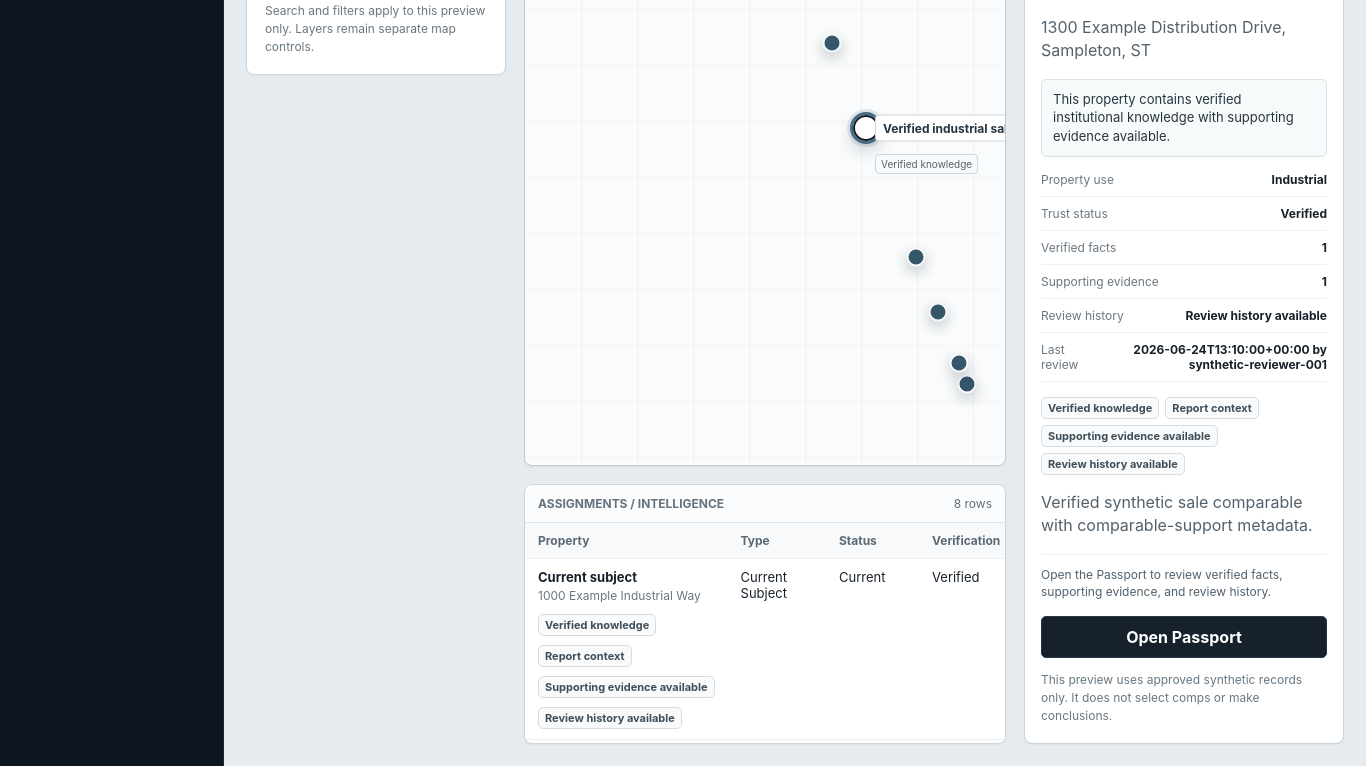
it: IntelligenceWorkspacePreview › renders Passport information architecture sections with property context
(page scrolled)
Click the button named "Select Current subject": click(967, 384) [957, 374, 976, 394]
(page scrolled)
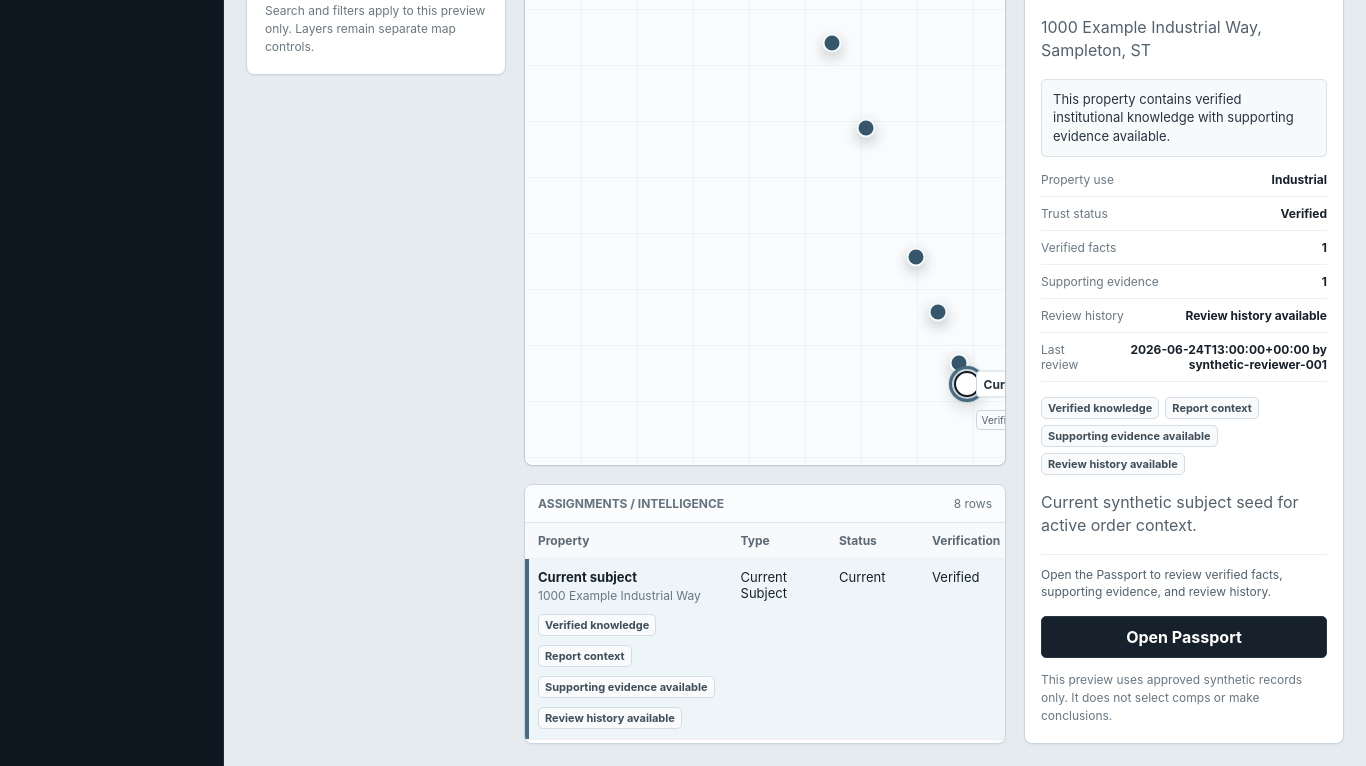
Click the button "Open Passport": click(1184, 637) [1041, 616, 1327, 658]
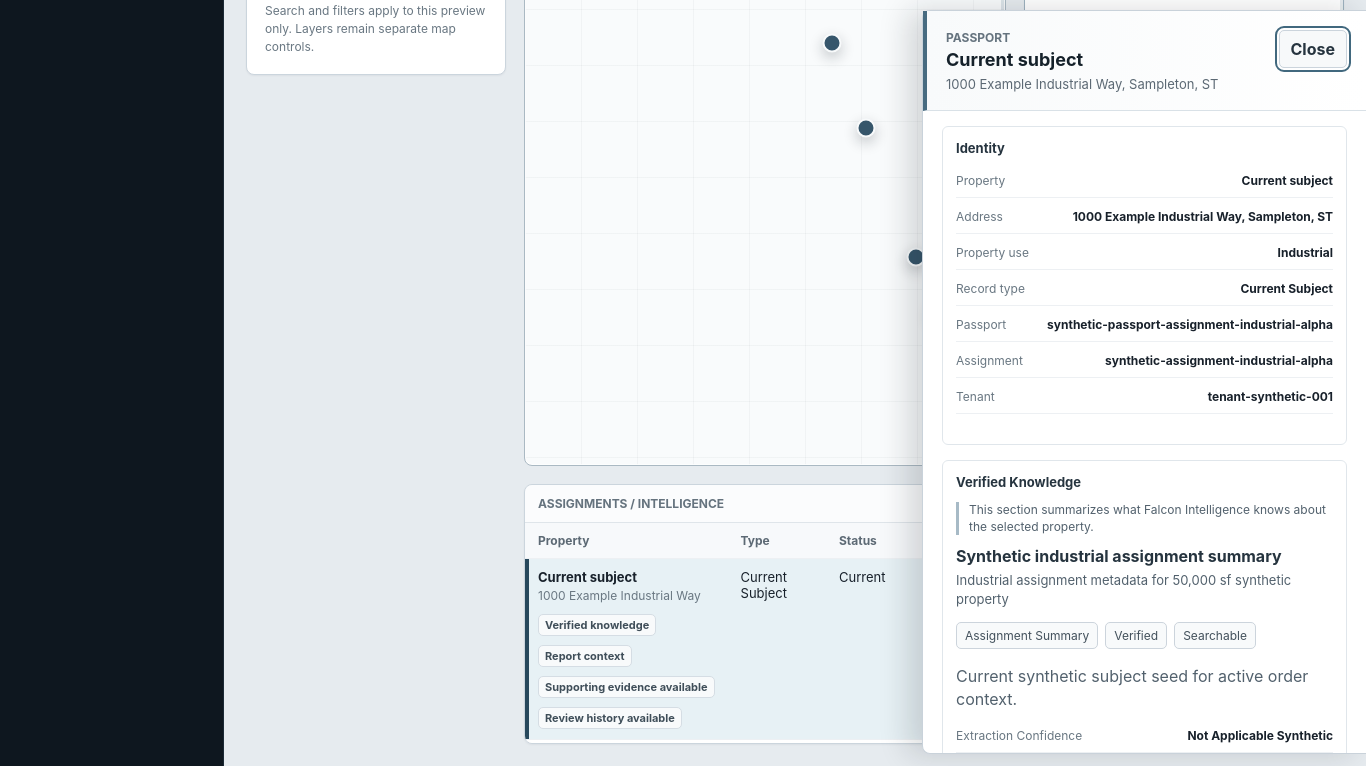
Now the heading "Identity" is shown, box [956, 140, 1005, 156]
Now the heading "Verified Knowledge" is shown, box [956, 474, 1081, 490]
Now the text "Property use" is shown, box [956, 245, 1029, 260]
